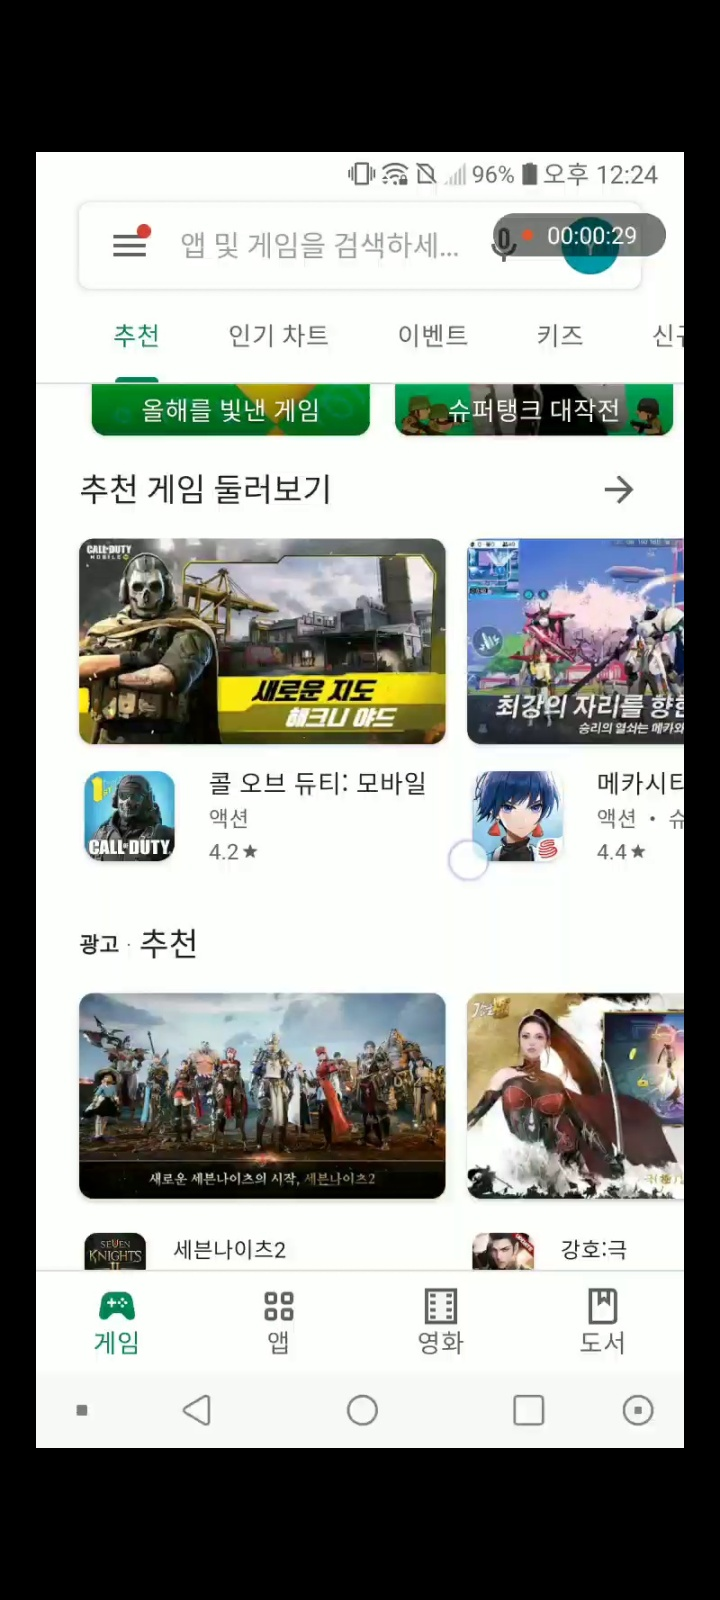Cursor: (447, 839, 492, 884)
